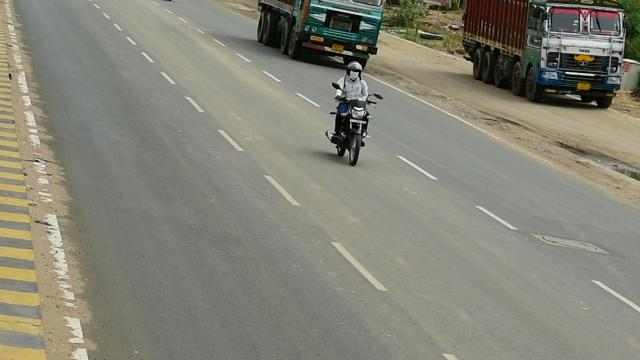With Helmet: (342, 60, 363, 82)
